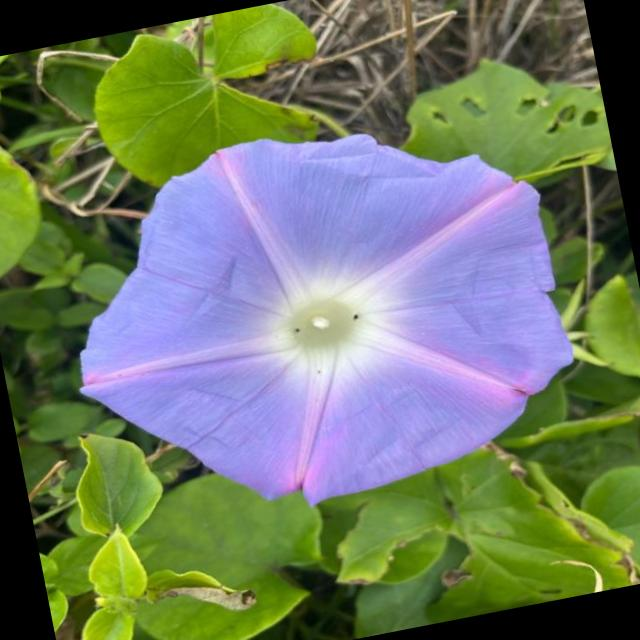ipomoea: (36, 84, 599, 548)
